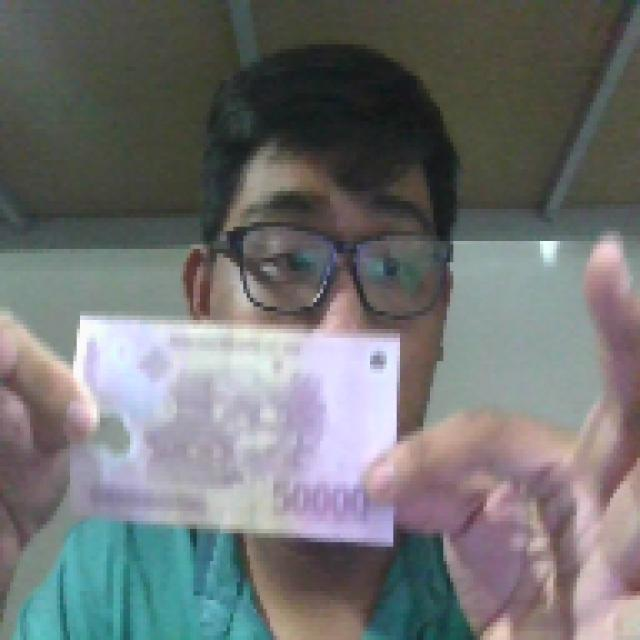50 000 VND: (63, 307, 407, 552)
